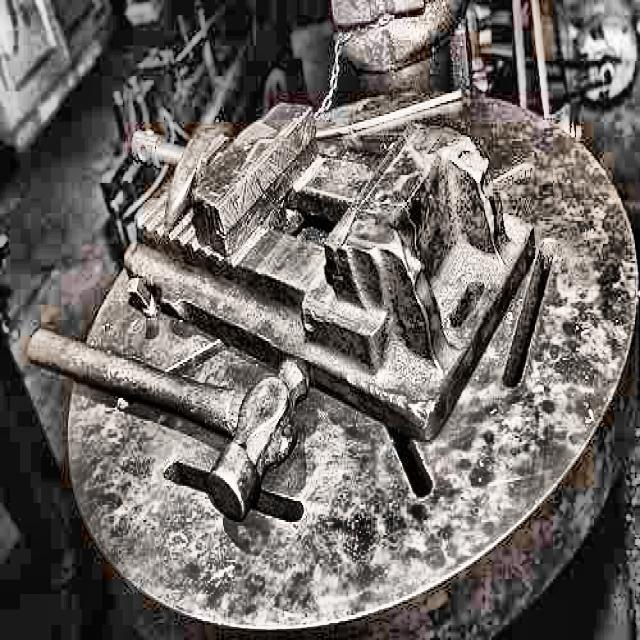hammer: (27, 318, 313, 522)
